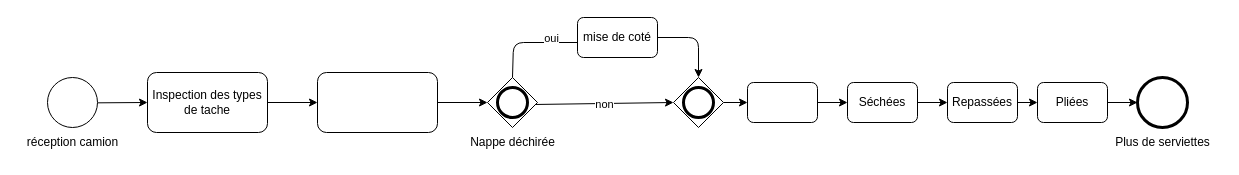
Some shapes in this 1239 by 175 pixel diagram are drawn without their labels. The centre of each missing label's shape, as x and y in pixels:
"application des produits spécifiques" belongs at (377,102).
"Lavées" belongs at (782,102).
